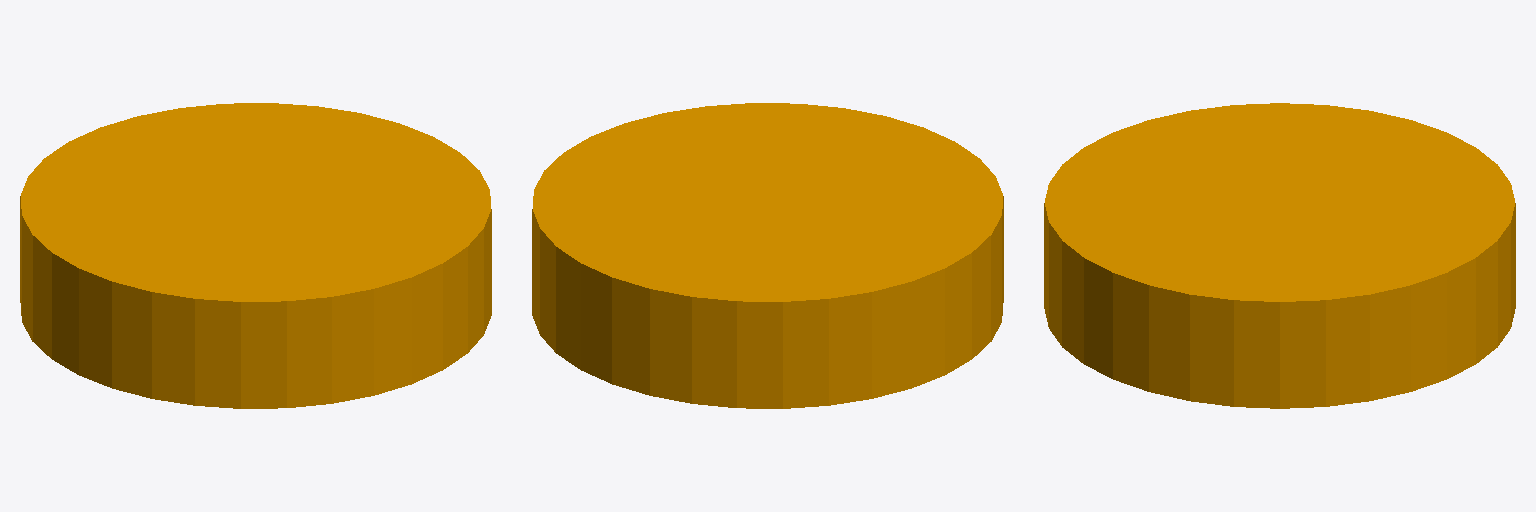
robot.urdf — NIVEA.urdf:
<?xml version="1.0" ?>
<robot name="NIVEA.urdf">
  <link name="baseLink">
    <contact>
      <lateral_friction value="0.5"/>
      <rolling_friction value="0.0"/>
      <contact_cfm value="0.0"/>
      <contact_erp value="1.0"/>
    </contact>
    <inertial>
      <origin rpy="0 0 0" xyz="0.0 0.0 0.0"/>
       <mass value=".1"/>
       <inertia ixx="1" ixy="0" ixz="0" iyy="1" iyz="0" izz="1"/>
    </inertial>
    <visual>
      <origin rpy="-1.5708 0 0" xyz="0 0 0"/>
      <geometry>
        <mesh filename="NIVEA.obj" scale=".05 .05 .05"/> #scale="1 1 1"
      </geometry>
    </visual>
    <collision>
      <origin rpy="-1.5708 0 0" xyz="0 0 0"/>
      <geometry>
	 <mesh filename="NIVEA.obj" scale=".05 .05 .05"/> #scale=".1 .1 .1"
      </geometry>
    </collision>
  </link>
</robot>

--- Facts derived from the render (not from the file) ---
Views: 3 orthographic renders of the robot side by side, from view 1: azimuth 30°, elevation 25°; view 2: azimuth 150°, elevation 25°; view 3: azimuth 270°, elevation 25°.
Model NIVEA.urdf with 1 links and 0 joints (none), rooted at baseLink, posed every joint at zero.
Links seen in each view (by area): view 1: baseLink; view 2: baseLink; view 3: baseLink.
Boxes of the visible links, x1=… form: baseLink: x1=20, y1=103, x2=491, y2=408; baseLink: x1=532, y1=103, x2=1003, y2=408; baseLink: x1=1044, y1=103, x2=1515, y2=408.
Size in the robot's own frame: 0.1 by 0.1 by 0.025 metres.
1 mesh visuals loaded from 1 distinct referenced files (1 OBJ).
